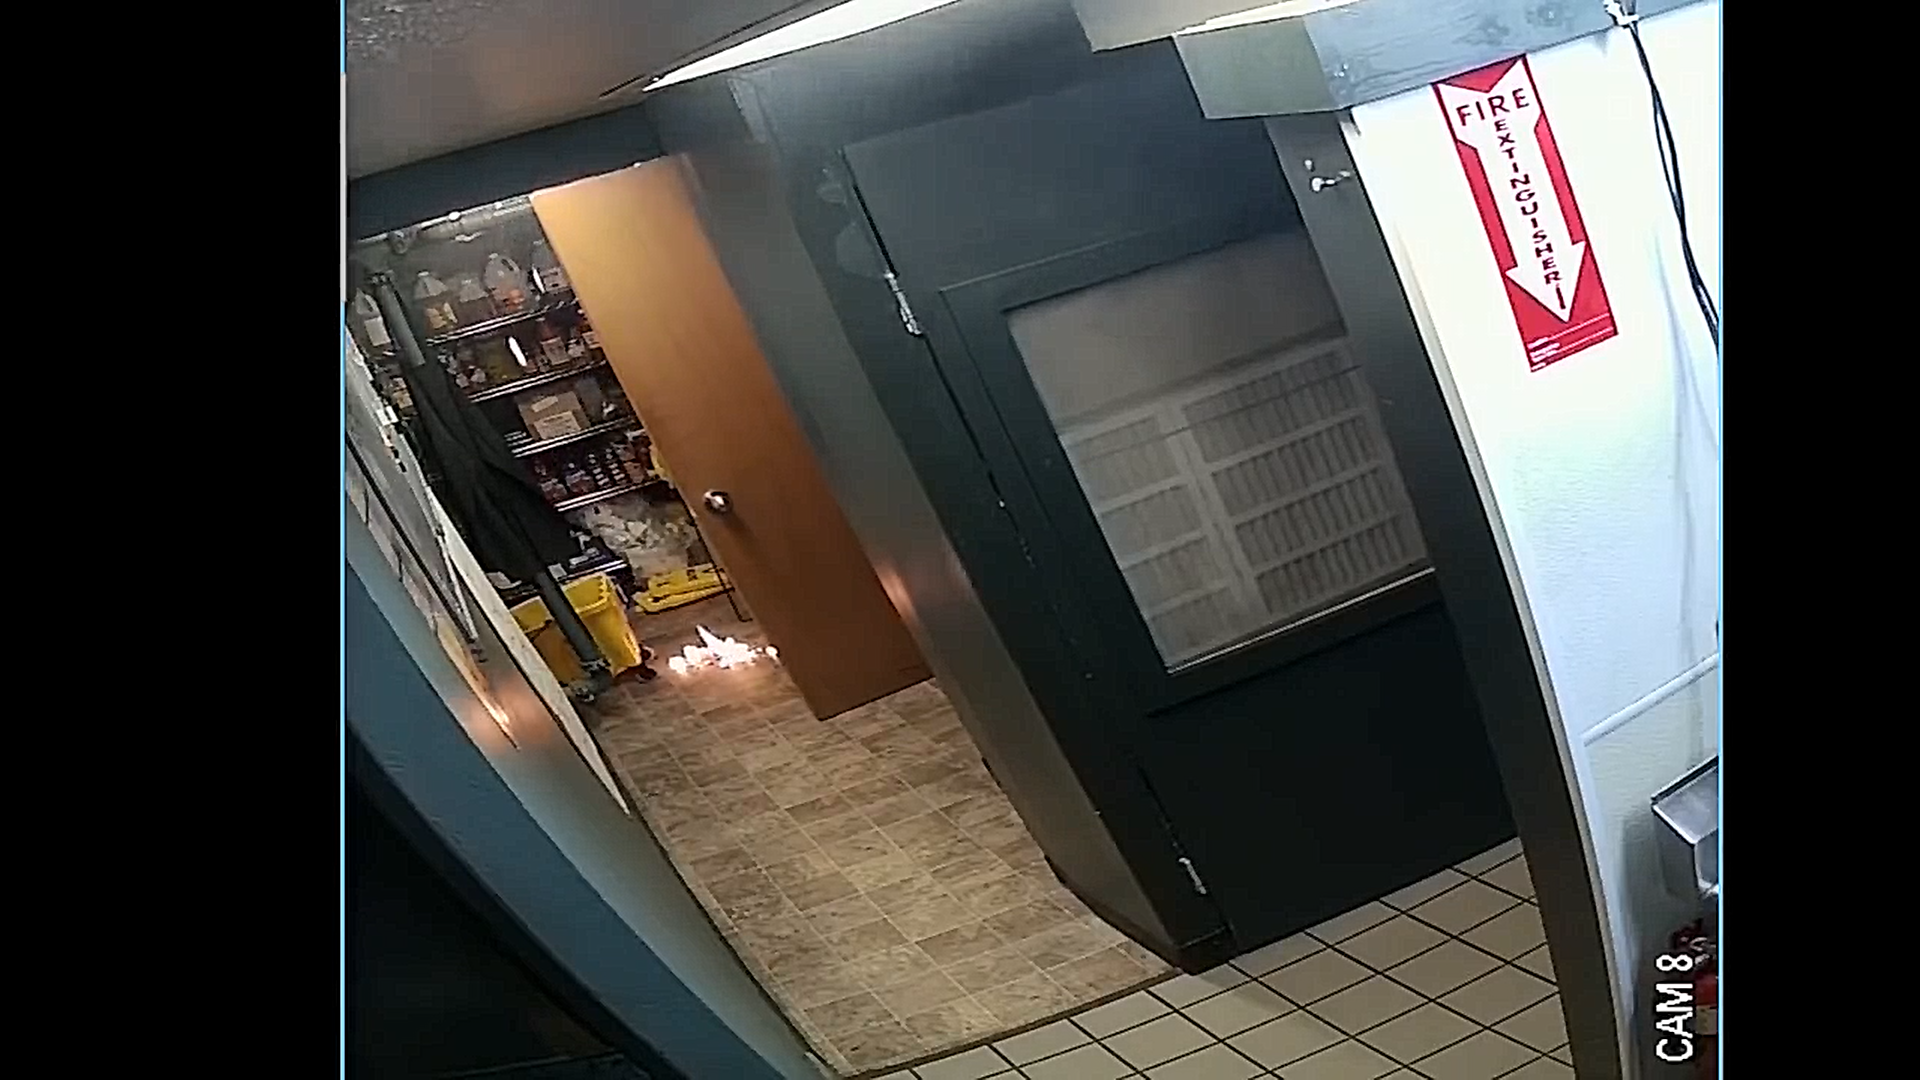fire: (657, 622, 789, 683)
